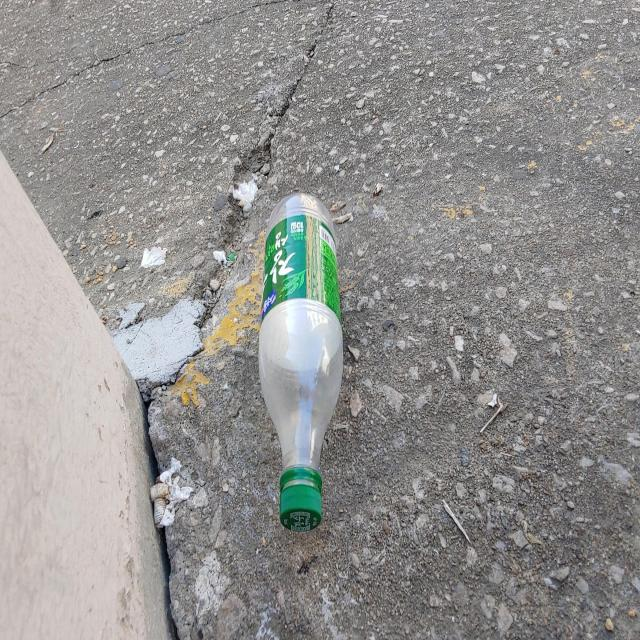plastic: (259, 193, 343, 532)
